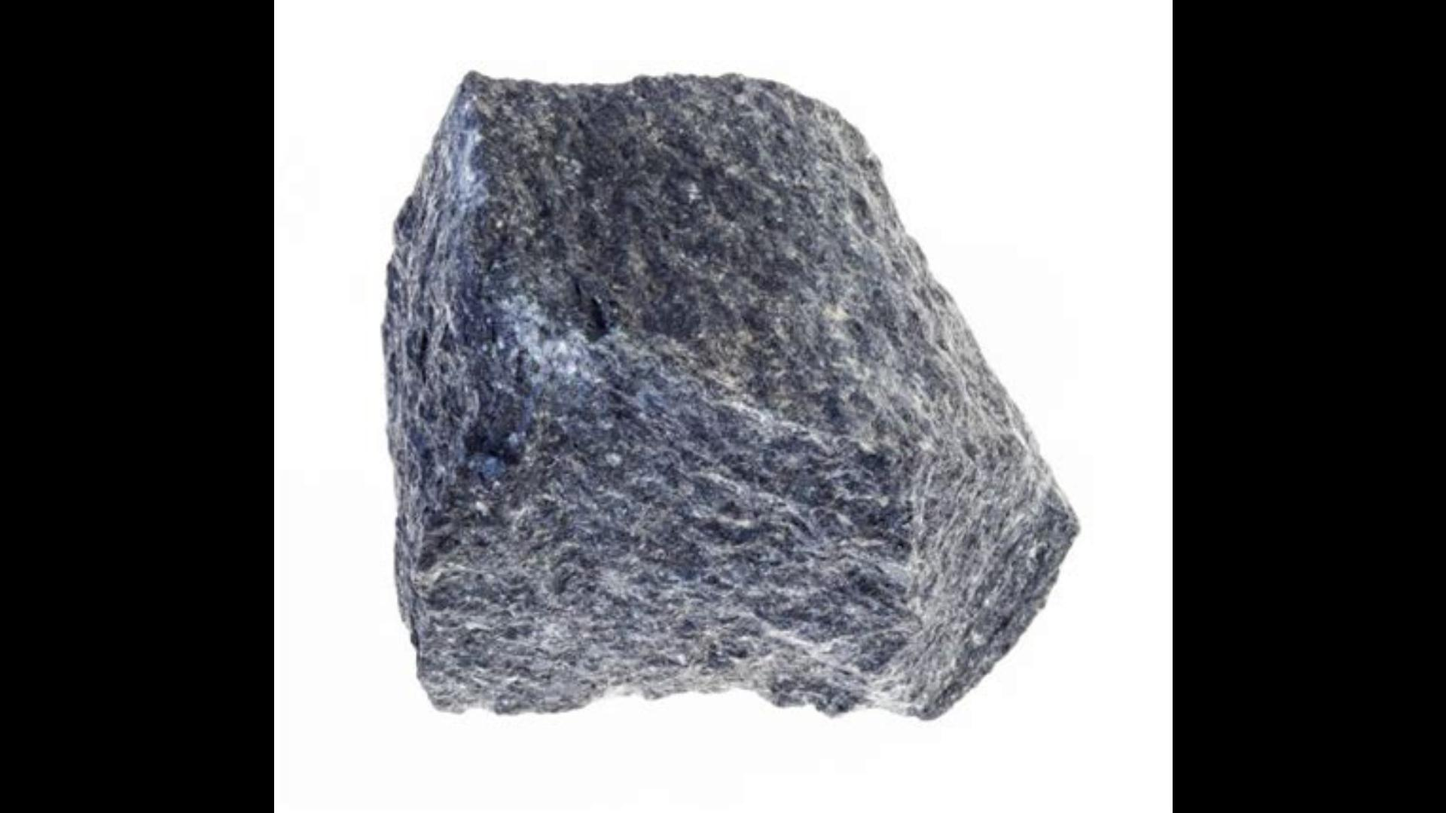rock: (383, 74, 1075, 709)
